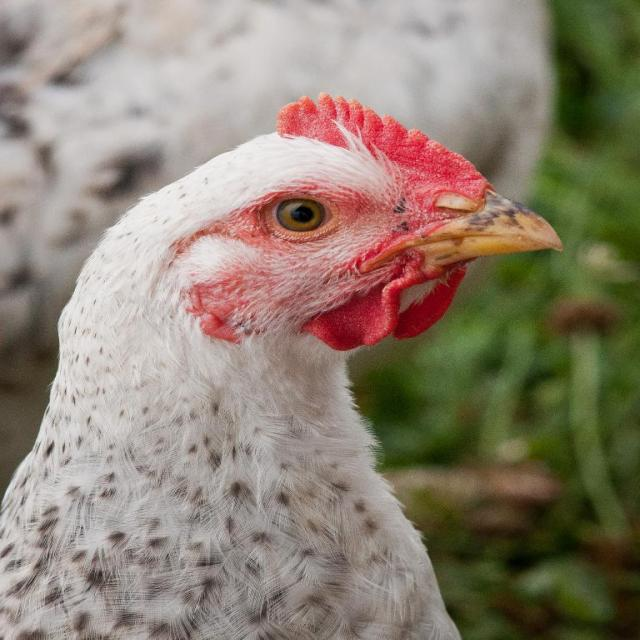Chicken: (0, 96, 576, 619)
